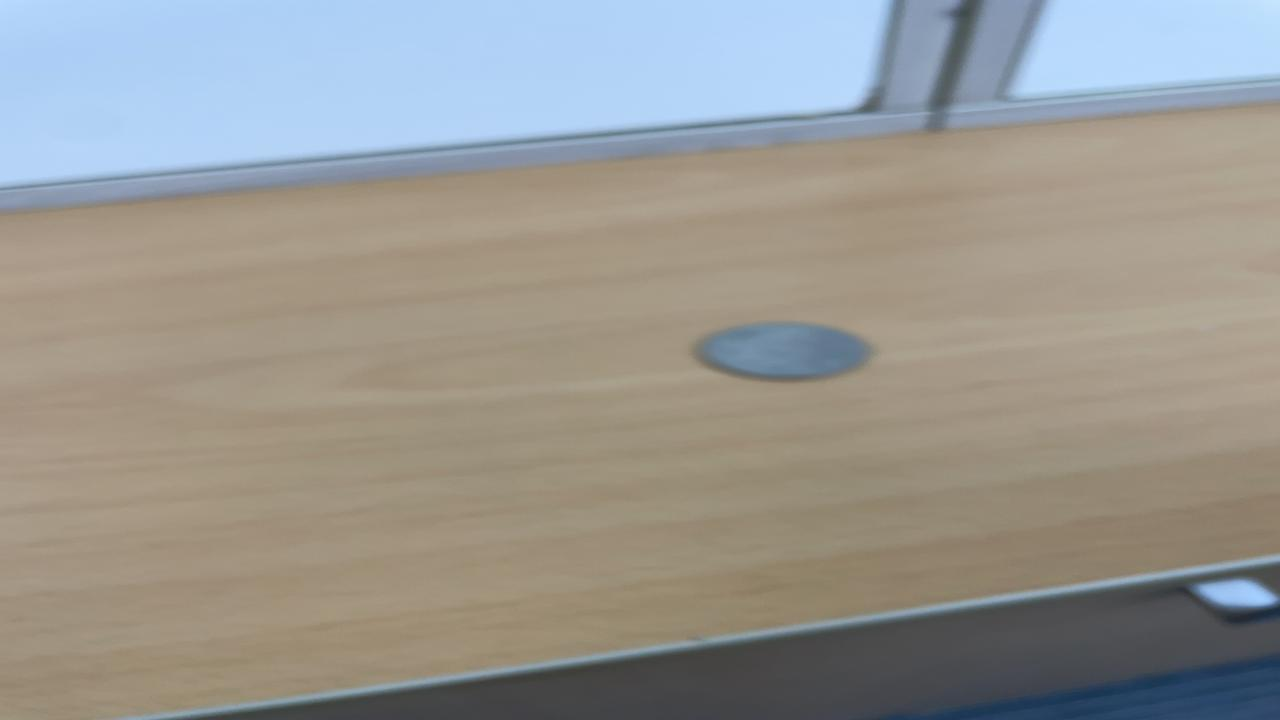coin: (688, 318, 882, 382)
